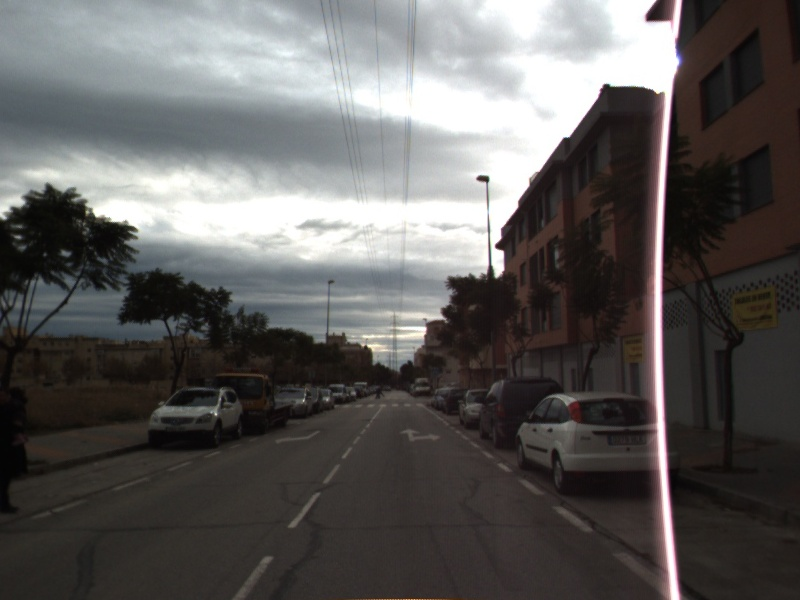STRAIGHT_RIGHT: (398, 426, 443, 444)
